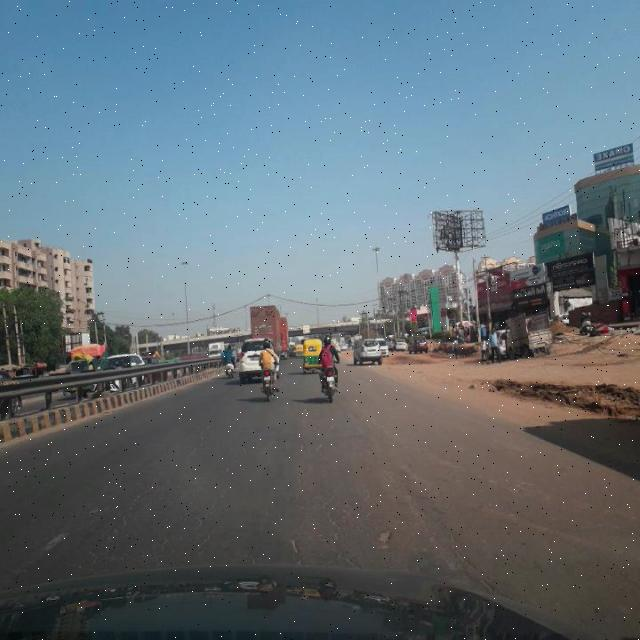D00: (392, 439, 493, 589), (184, 407, 216, 466)
D20: (81, 444, 379, 562)
D40: (378, 520, 402, 554)
D44: (9, 494, 100, 583)
